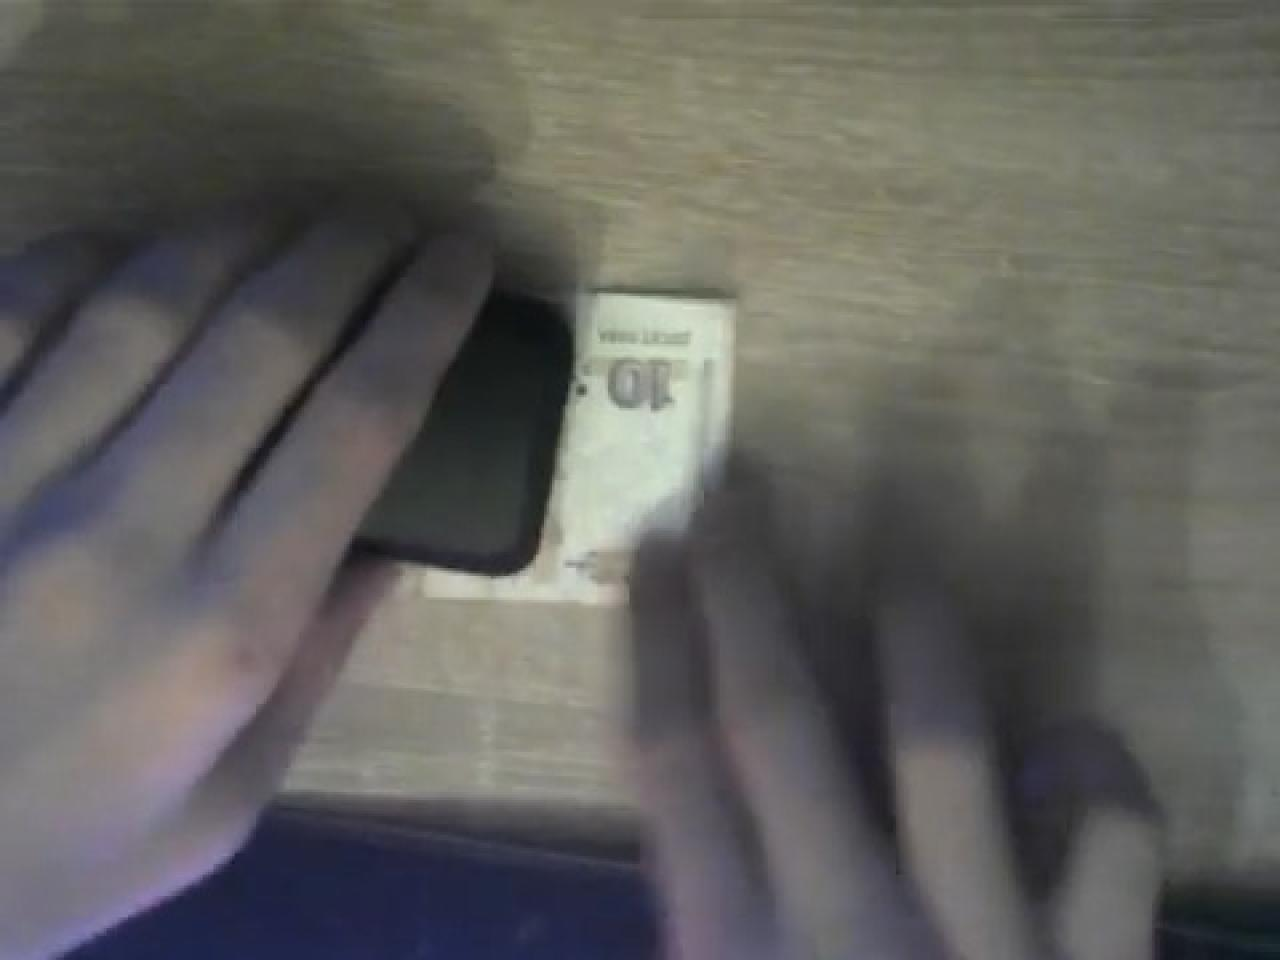10leva: (416, 293, 739, 605)
